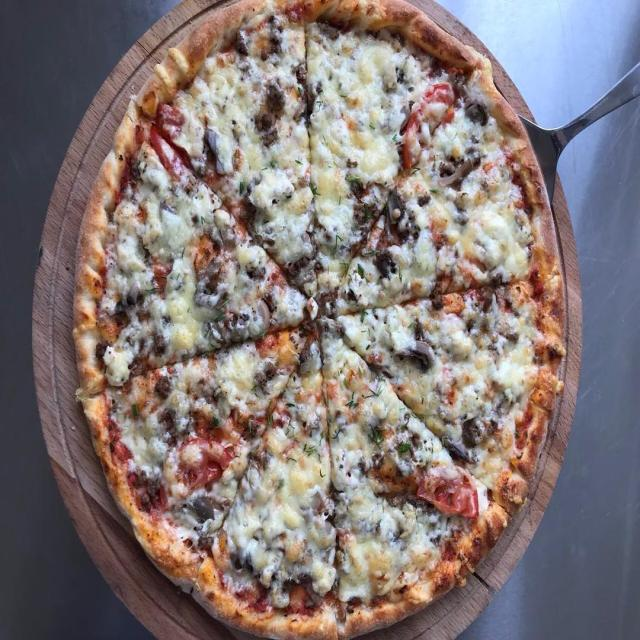mushrooms: (448, 417, 491, 468), (234, 299, 278, 339), (441, 146, 482, 186), (194, 256, 228, 304), (383, 194, 417, 242), (401, 338, 439, 374), (187, 493, 226, 524)
pizza: (74, 0, 559, 640)
